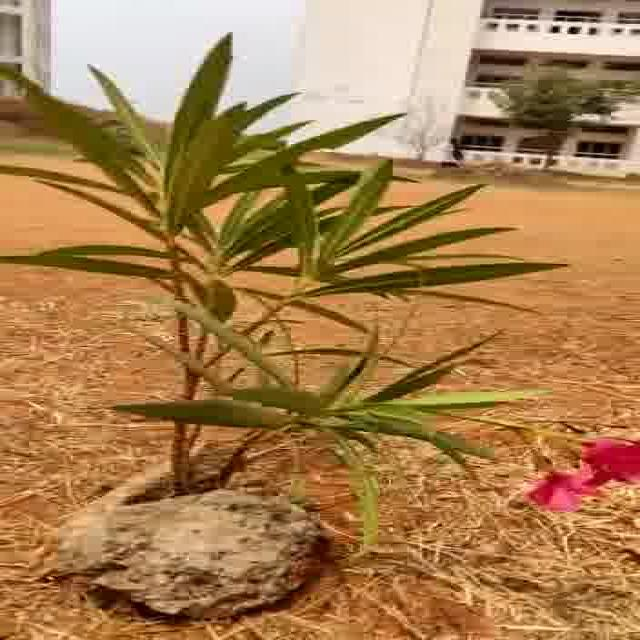Oleander: (29, 12, 640, 513)
